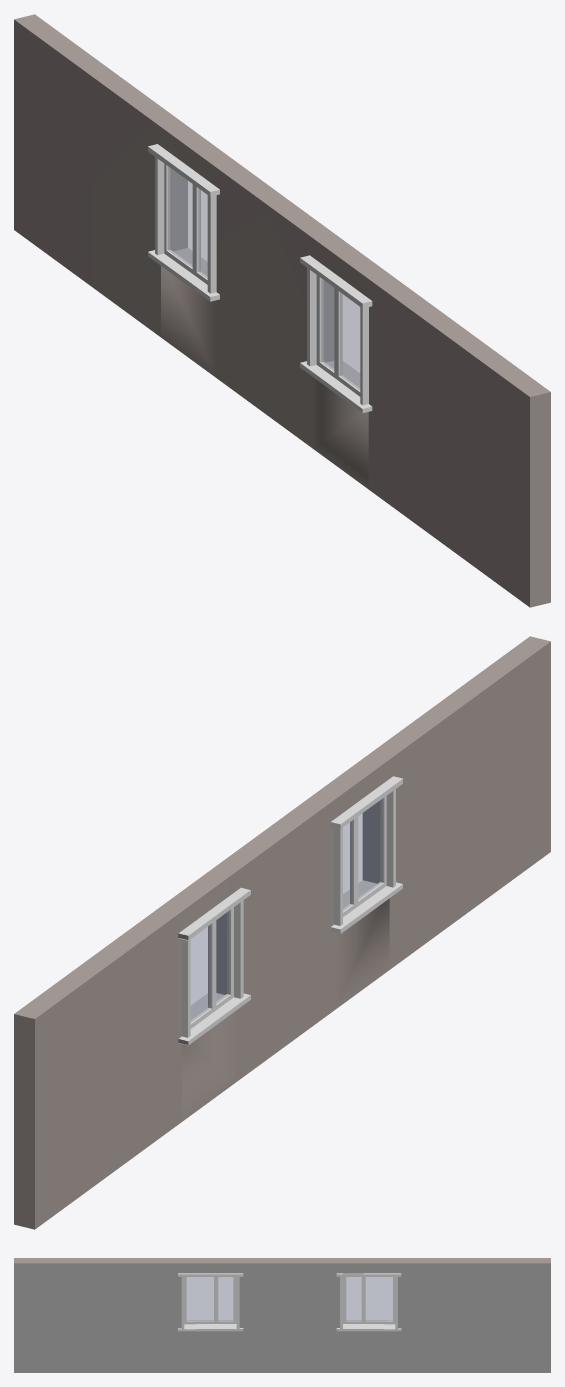
Rendered from Wall_Outter_side_type2.FBX.
The picture shows the model from 3 angles, top to bottom: view 1: azimuth 30°, elevation 25°; view 2: azimuth 150°, elevation 25°; view 3: azimuth 270°, elevation 25°; orthographic projection. The views are drawn at different scales.
Visible parts, largest first — view 1: Wall_Outter_side_type2_005, wind_009; view 2: Wall_Outter_side_type2_005, wind_009; view 3: Wall_Outter_side_type2_005, wind_009.
Part boxes in pixels (bbox=[...]): Wall_Outter_side_type2_005: bbox=[14, 14, 550, 607]; wind_009: bbox=[170, 168, 359, 388]; Wall_Outter_side_type2_005: bbox=[14, 636, 550, 1229]; wind_009: bbox=[191, 800, 380, 1020]; Wall_Outter_side_type2_005: bbox=[14, 1258, 550, 1372]; wind_009: bbox=[187, 1277, 392, 1320].
Bounding box in the file's own units: 121 × 712 × 3161.
2 materials, 1 textured.
